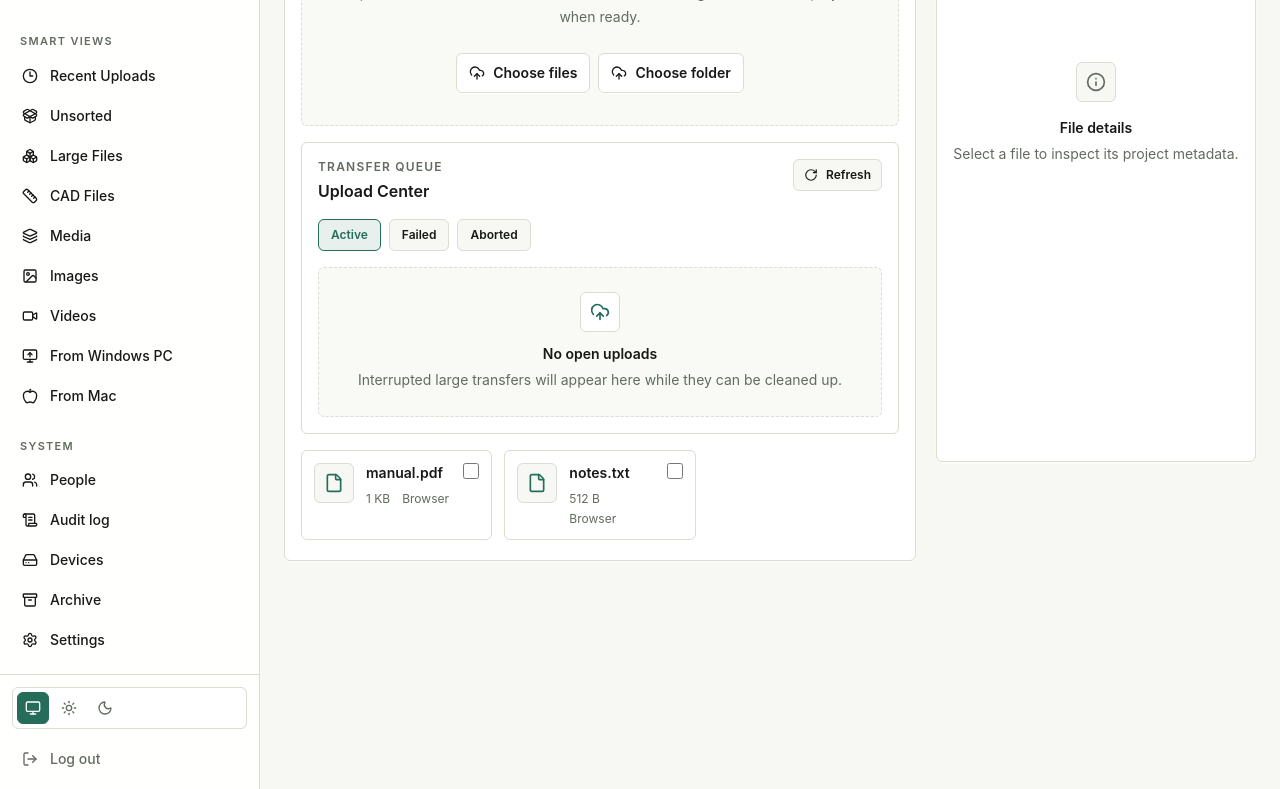
Test case: AppShell › bulk assigns selected files to a project and category
The width and height of the screenshot is (1280, 789).
(page scrolled)
Click the checkbox named "Select manual.pdf" at x=471, y=471, box [463,463,479,479]
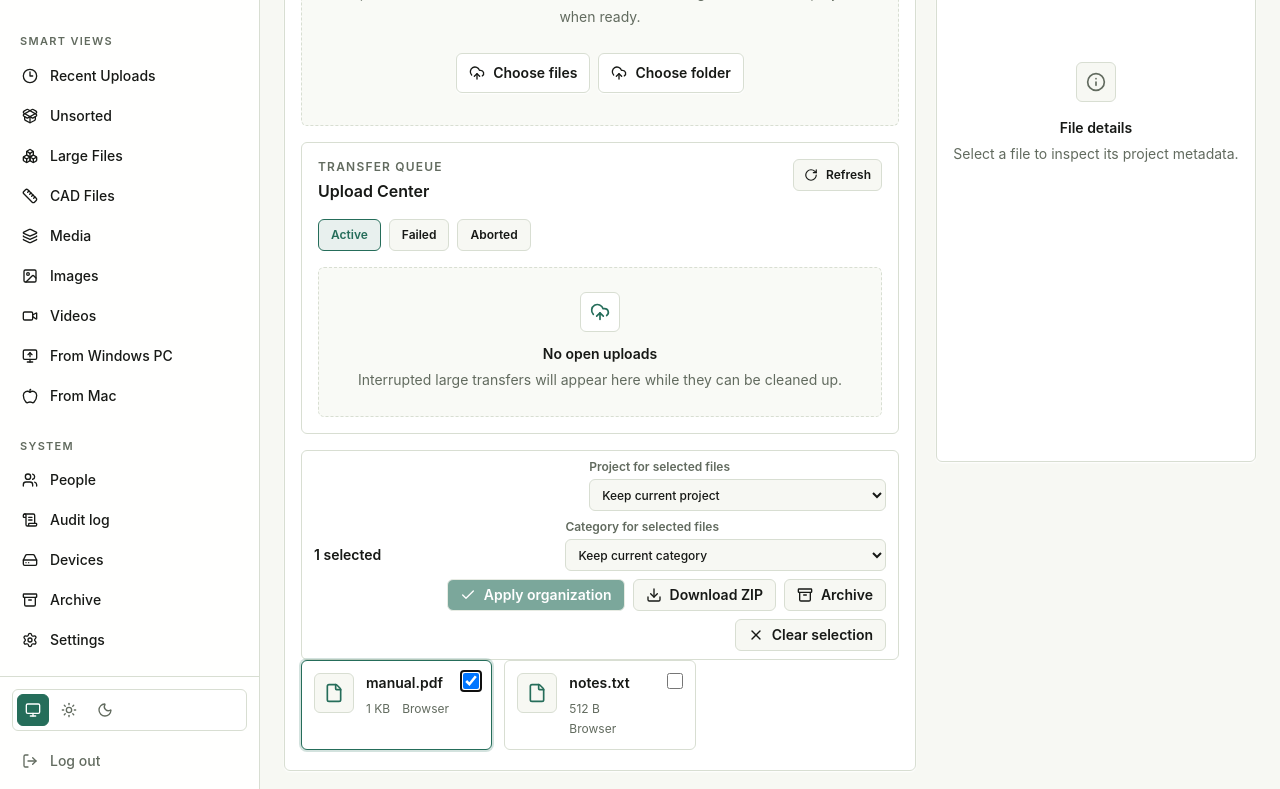
Click the checkbox named "Select notes.txt" at x=675, y=681, box [667,673,683,689]
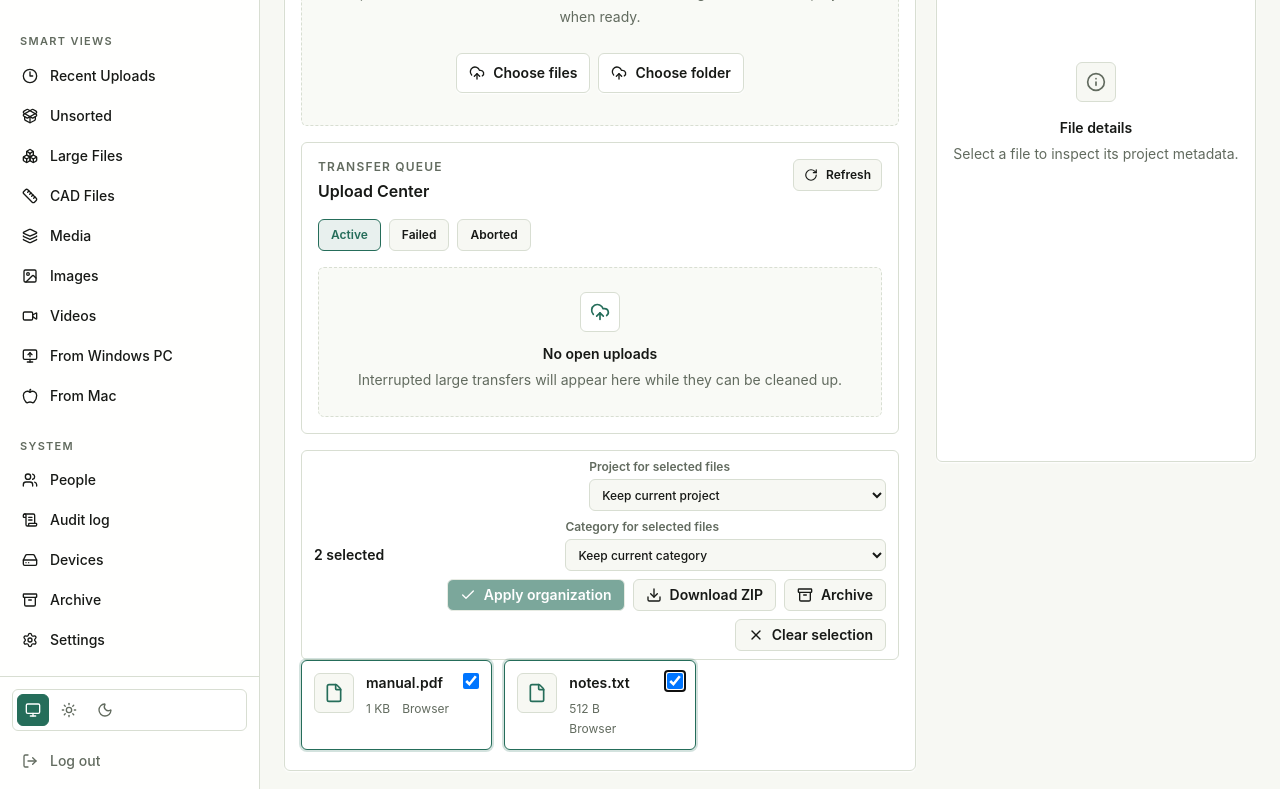
Select "Printer Upgrade" in the dropdown labelled "Project for selected files" at x=738, y=495, box [589,479,886,511]
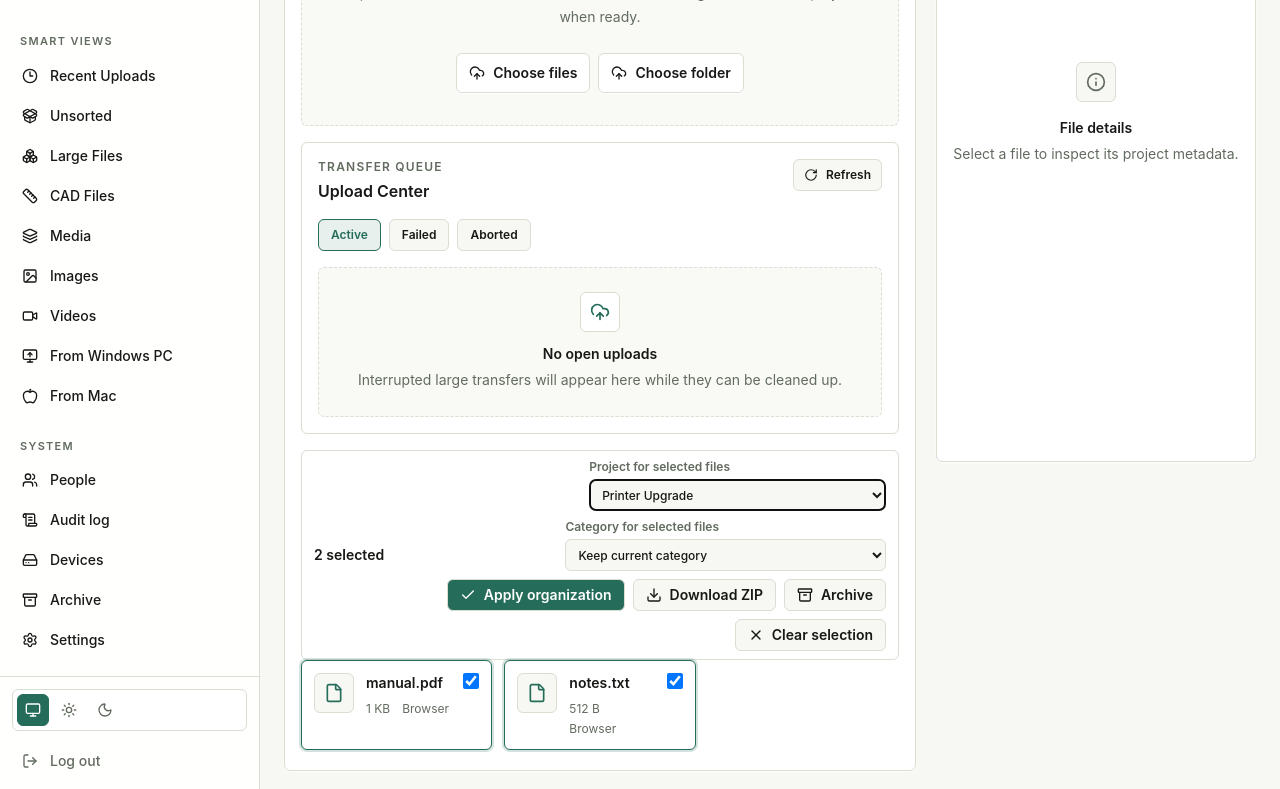
Select "3D / CAD" in the dropdown labelled "Category for selected files" at x=726, y=555, box [565,539,886,571]
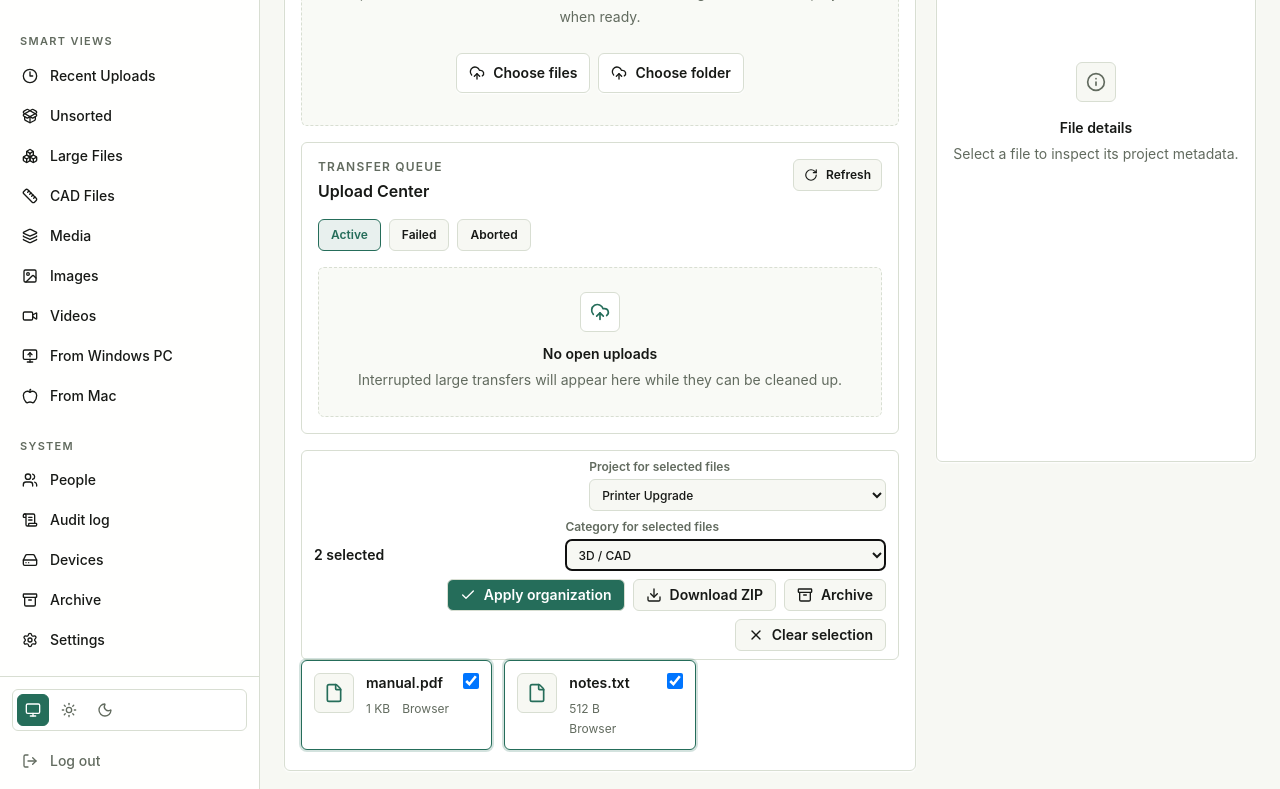
Click the button "Apply organization" at x=536, y=595, box [447,579,625,611]
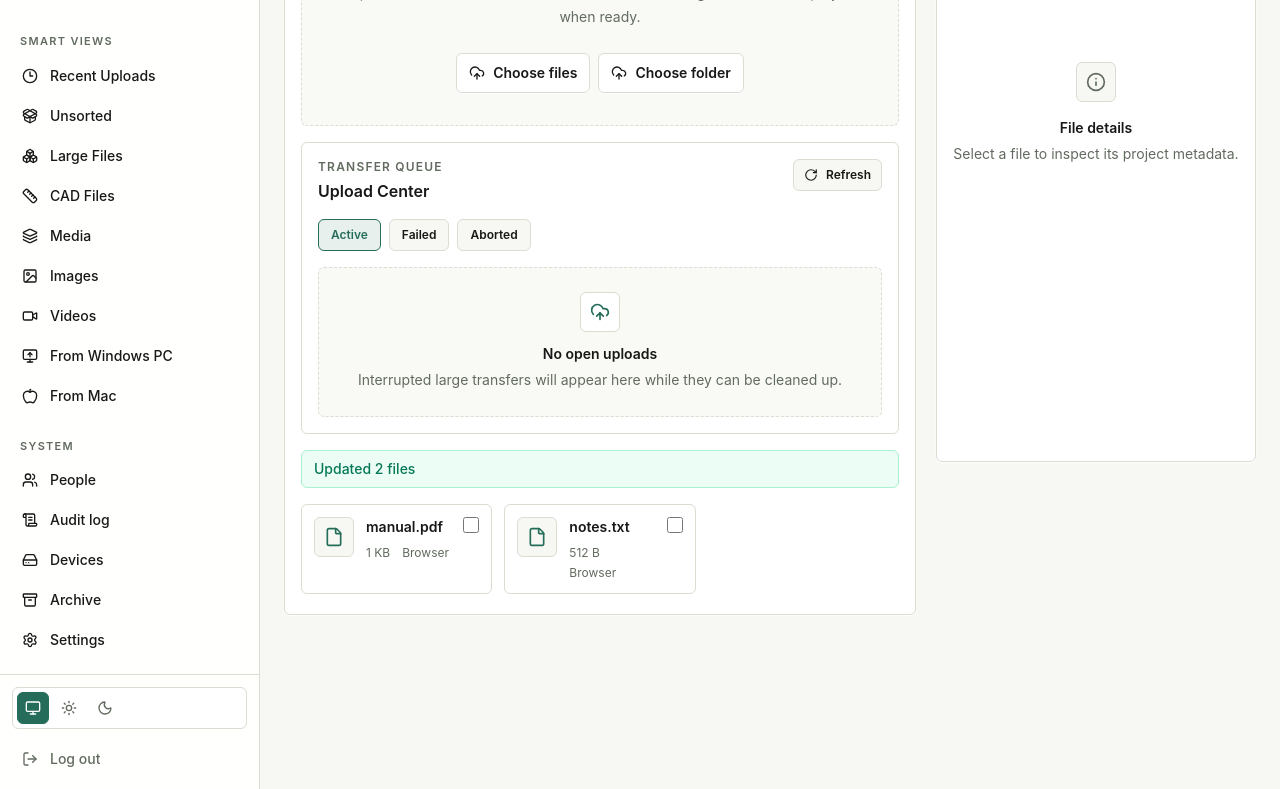
Expected: the message reads "Updated 2 files", [314,460,415,477]
Expected: the text "2 selected" is gone
